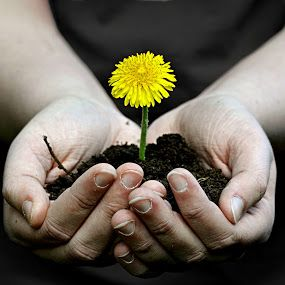dandelion: (114, 54, 174, 106)
